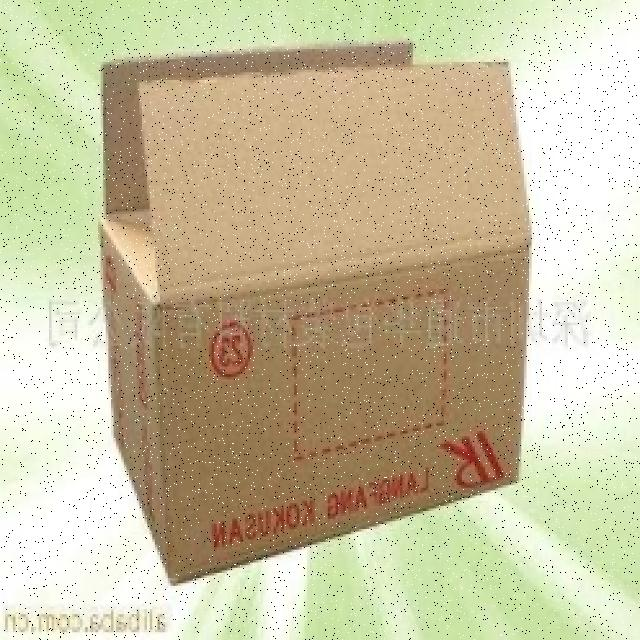box: (73, 57, 535, 605)
